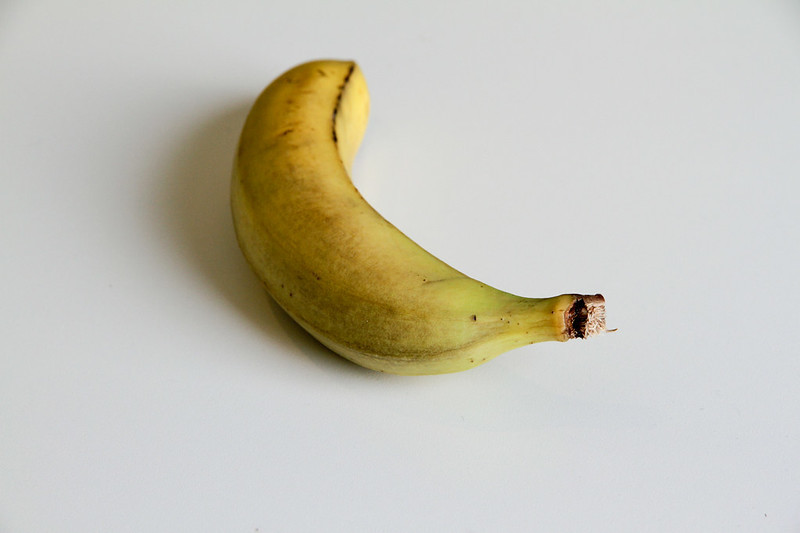banana: (229, 44, 603, 367)
